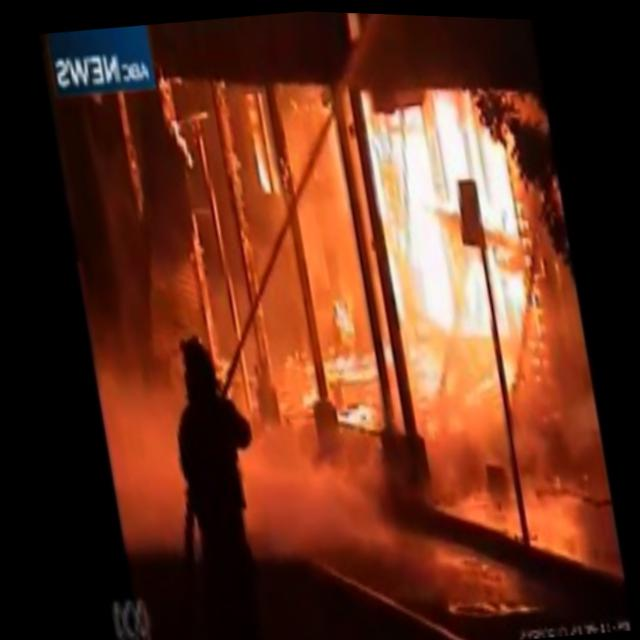fire: (388, 125, 460, 319), (472, 128, 513, 228), (427, 92, 464, 195)
smoke: (397, 333, 504, 510), (244, 449, 390, 565), (89, 362, 178, 544)
